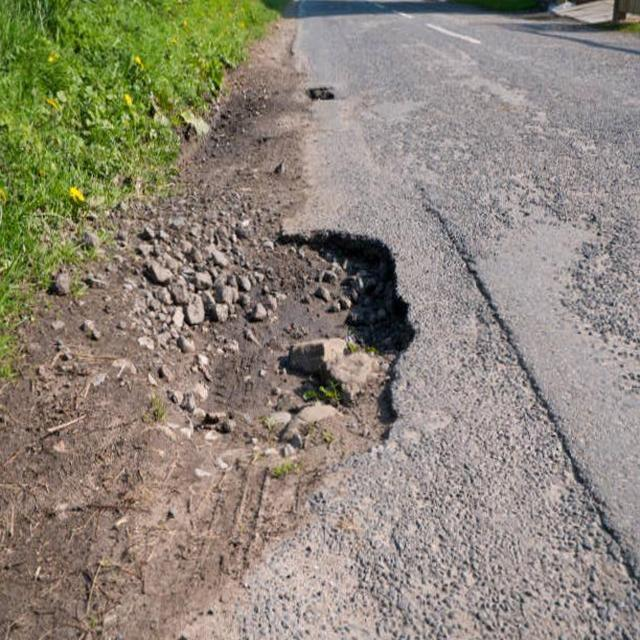Pinggir: (232, 215, 432, 501)
